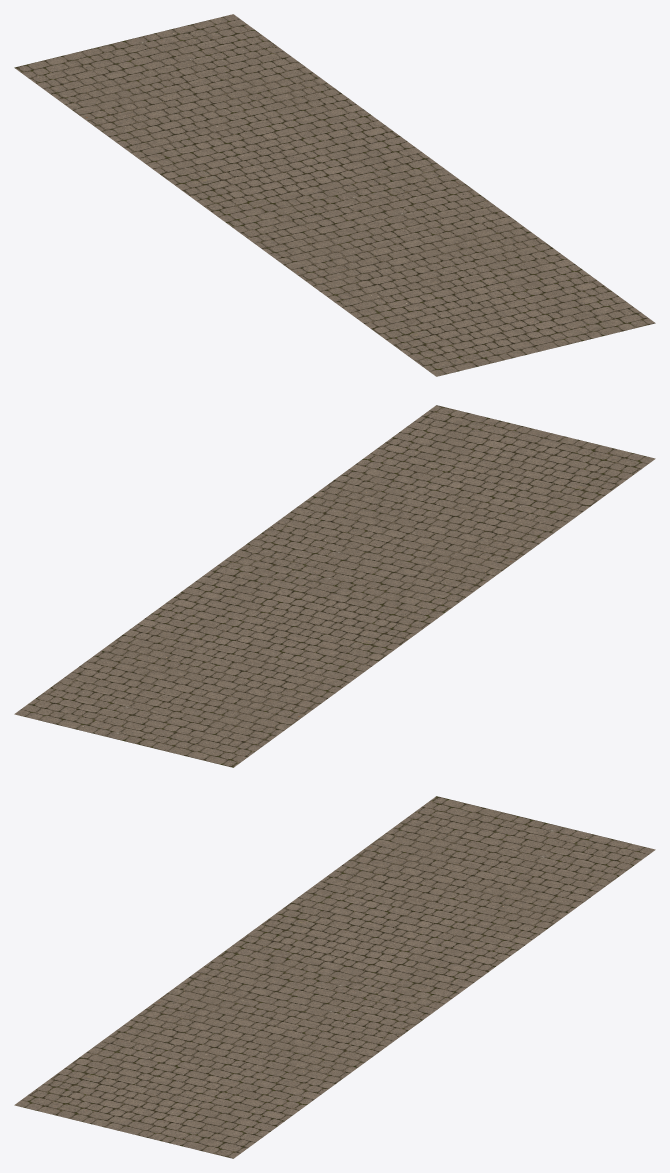
File: Road_pavement_05_Straight.fbx
3 views of the same model, one above another, from view 1: azimuth 30°, elevation 25°; view 2: azimuth 150°, elevation 25°; view 3: azimuth 330°, elevation 25° (orthographic).
Visible parts, largest first — view 1: Road_pavement_05_Straight; view 2: Road_pavement_05_Straight; view 3: Road_pavement_05_Straight.
Part boxes in pixels (box(x1,y1,x2,y2)): Road_pavement_05_Straight: box(14, 14, 655, 376); Road_pavement_05_Straight: box(14, 405, 655, 767); Road_pavement_05_Straight: box(14, 796, 655, 1158).
Size of the model in its own units: 1.2 by 6.52e-07 by 4.
Materials: 1 (1 with a texture image).
